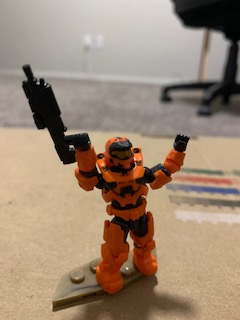rifle: (17, 63, 92, 168)
spartan: (72, 127, 189, 295)
up: (71, 130, 187, 208)
